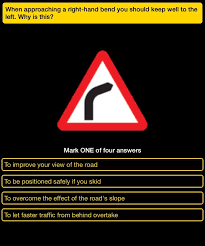Bend_to_right: (55, 49, 149, 132)
